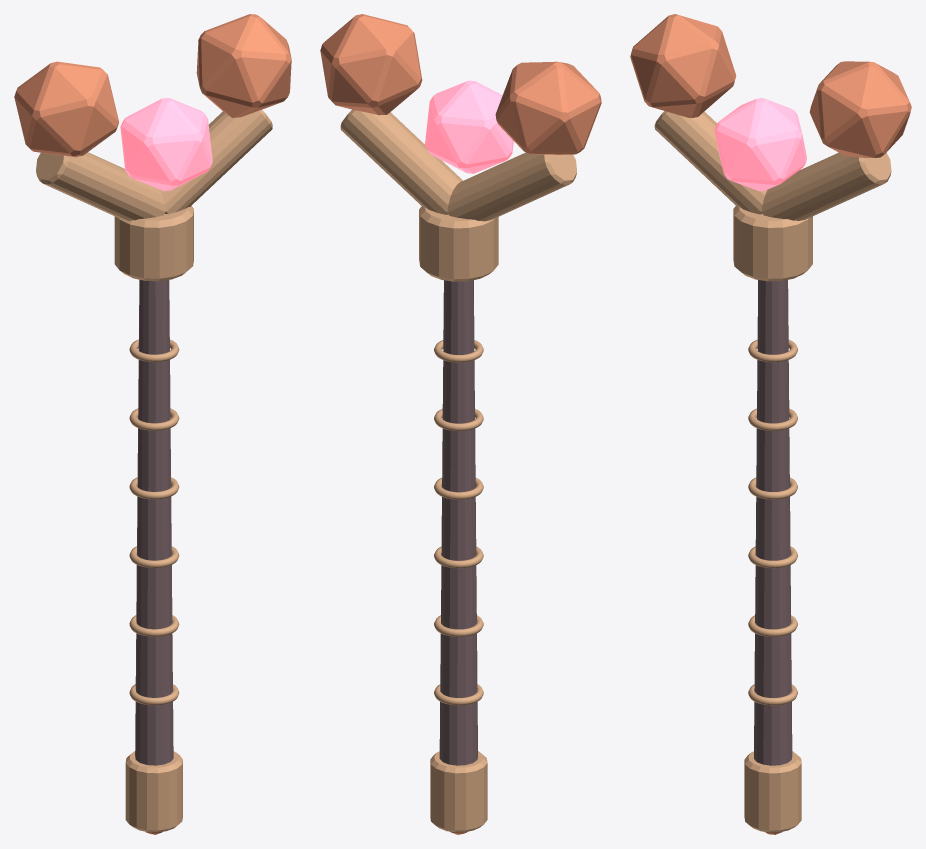
Rendered from mage-staff-02-emberwing.glb.
The picture shows the model from 3 angles, left to right: view 1: azimuth 30°, elevation 25°; view 2: azimuth 150°, elevation 25°; view 3: azimuth 330°, elevation 25°; orthographic projection.
Visible parts, largest first — view 1: mage-staff-02-emberwing_WoodenShaft, mage-staff-02-emberwing_WingFlame_-1, mage-staff-02-emberwing_WingFlame_1, mage-staff-02-emberwing_CrownStar, mage-staff-02-emberwing_WingLower_-1, mage-staff-02-emberwing_CrownCollar, mage-staff-02-emberwing_LowerFerrule, mage-staff-02-emberwing_WingLower_1, mage-staff-02-emberwing_ShaftBand_6, mage-staff-02-emberwing_ShaftBand_5, mage-staff-02-emberwing_ShaftBand_4; view 2: mage-staff-02-emberwing_WoodenShaft, mage-staff-02-emberwing_WingFlame_1, mage-staff-02-emberwing_WingFlame_-1, mage-staff-02-emberwing_CrownStar, mage-staff-02-emberwing_WingLower_1, mage-staff-02-emberwing_WingLower_-1, mage-staff-02-emberwing_CrownCollar, mage-staff-02-emberwing_LowerFerrule, mage-staff-02-emberwing_ShaftBand_6, mage-staff-02-emberwing_ShaftBand_5; view 3: mage-staff-02-emberwing_WoodenShaft, mage-staff-02-emberwing_WingFlame_-1, mage-staff-02-emberwing_WingFlame_1, mage-staff-02-emberwing_CrownStar, mage-staff-02-emberwing_WingLower_1, mage-staff-02-emberwing_CrownCollar, mage-staff-02-emberwing_LowerFerrule, mage-staff-02-emberwing_WingLower_-1, mage-staff-02-emberwing_ShaftBand_6, mage-staff-02-emberwing_ShaftBand_5.
Part boxes in pixels (box(x1,y1,x2,y2)): mage-staff-02-emberwing_WoodenShaft: box(135, 279, 173, 765); mage-staff-02-emberwing_WingFlame_-1: box(14, 61, 118, 157); mage-staff-02-emberwing_WingFlame_1: box(196, 14, 291, 117); mage-staff-02-emberwing_CrownStar: box(120, 98, 212, 191); mage-staff-02-emberwing_WingLower_-1: box(36, 152, 165, 220); mage-staff-02-emberwing_CrownCollar: box(114, 206, 193, 281); mage-staff-02-emberwing_LowerFerrule: box(125, 751, 182, 832); mage-staff-02-emberwing_WingLower_1: box(160, 110, 272, 214); mage-staff-02-emberwing_ShaftBand_6: box(129, 339, 179, 362); mage-staff-02-emberwing_ShaftBand_5: box(129, 408, 179, 430); mage-staff-02-emberwing_ShaftBand_4: box(129, 477, 179, 499); mage-staff-02-emberwing_WoodenShaft: box(439, 280, 477, 765); mage-staff-02-emberwing_WingFlame_1: box(320, 14, 422, 115); mage-staff-02-emberwing_WingFlame_-1: box(495, 61, 601, 154); mage-staff-02-emberwing_CrownStar: box(425, 80, 513, 173); mage-staff-02-emberwing_WingLower_1: box(340, 109, 462, 214); mage-staff-02-emberwing_WingLower_-1: box(447, 152, 577, 221); mage-staff-02-emberwing_CrownCollar: box(419, 206, 498, 281); mage-staff-02-emberwing_LowerFerrule: box(430, 751, 487, 832); mage-staff-02-emberwing_ShaftBand_6: box(434, 340, 483, 362); mage-staff-02-emberwing_ShaftBand_5: box(434, 409, 483, 431); mage-staff-02-emberwing_WoodenShaft: box(754, 280, 792, 765); mage-staff-02-emberwing_WingFlame_-1: box(630, 14, 736, 117); mage-staff-02-emberwing_WingFlame_1: box(809, 61, 911, 157); mage-staff-02-emberwing_CrownStar: box(714, 98, 806, 191); mage-staff-02-emberwing_WingLower_1: box(761, 152, 891, 220); mage-staff-02-emberwing_CrownCollar: box(733, 206, 812, 281); mage-staff-02-emberwing_LowerFerrule: box(744, 751, 801, 832); mage-staff-02-emberwing_WingLower_-1: box(654, 111, 767, 214); mage-staff-02-emberwing_ShaftBand_6: box(748, 339, 797, 362); mage-staff-02-emberwing_ShaftBand_5: box(748, 408, 797, 430).
Size of the model in its own units: 0.6909 by 1.97 by 0.2624.
